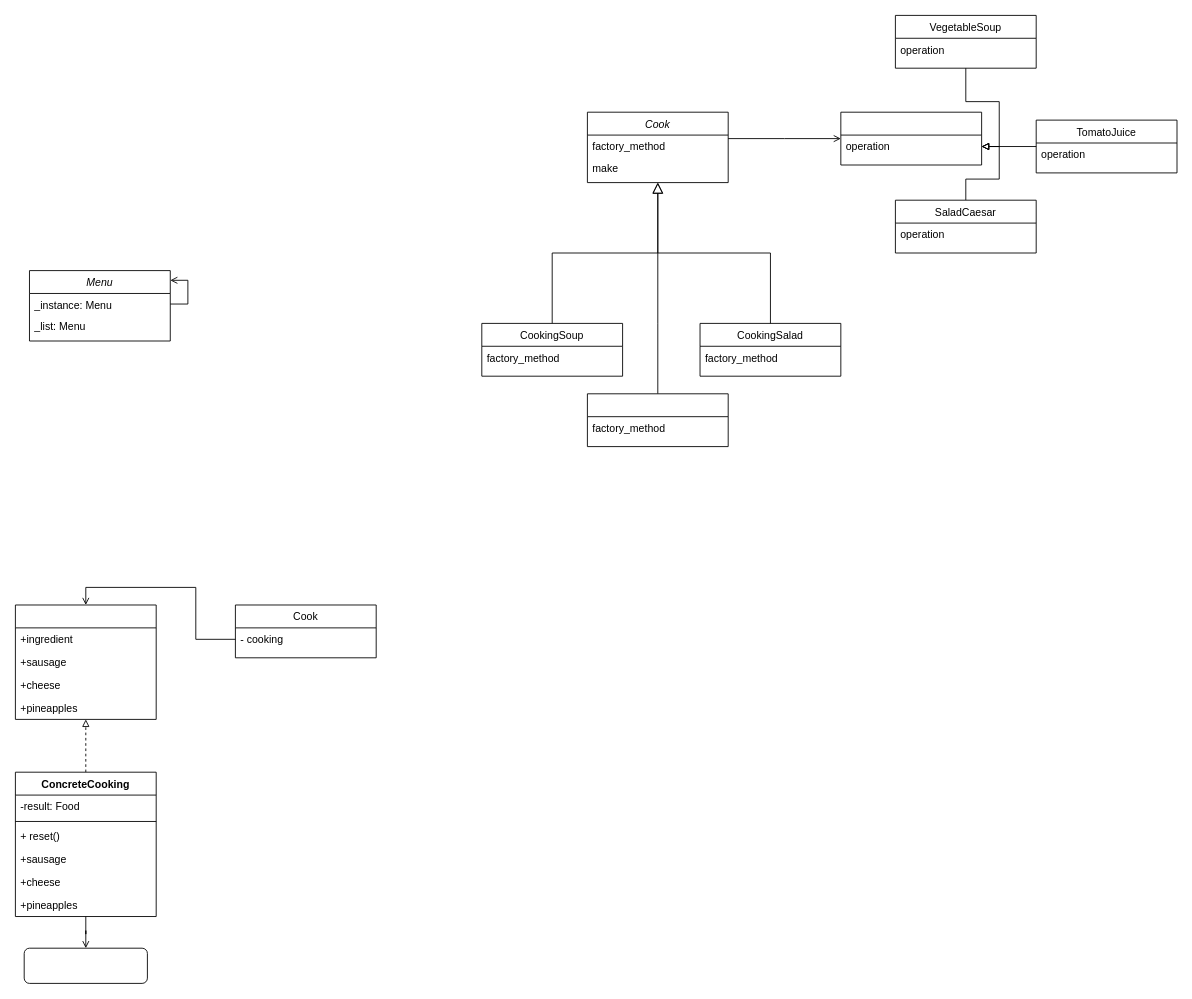
Some shapes in this 1192 by 999 pixel diagram are drawn without their labels. The shapes that lost their labels are listed below. From the top down, each one's box as (x1, y1, x2, y2) in pixels, then its label:
(840, 111, 982, 165): Product
(587, 393, 728, 447): CookingJuice
(15, 604, 156, 719): Cooking
(23, 947, 147, 983): Pizza
